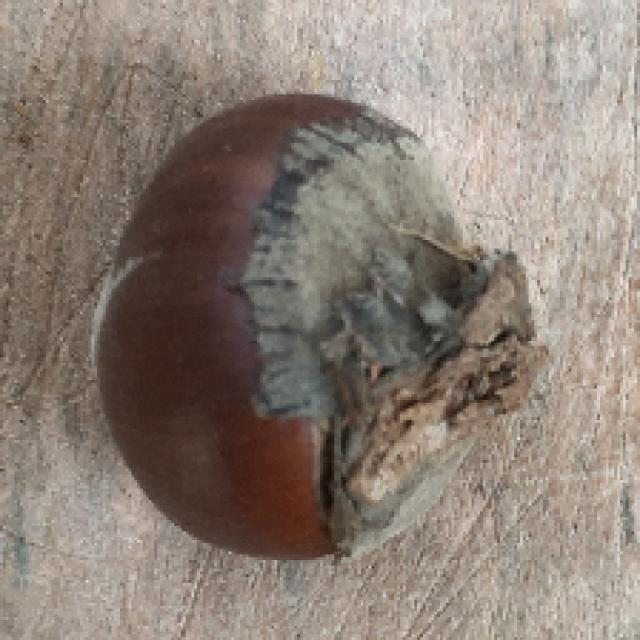damagedHazelnut: (92, 88, 544, 561)
